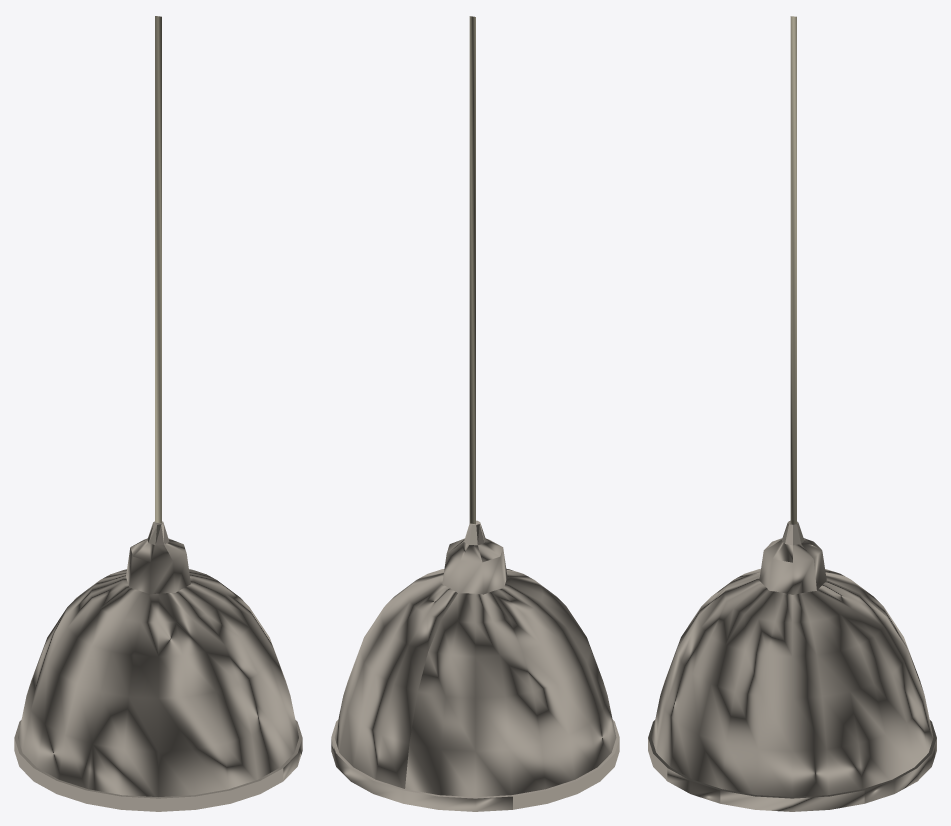
File: light_warm_ceiling_e.glb
The picture shows the model from 3 angles, left to right: view 1: azimuth 30°, elevation 25°; view 2: azimuth 150°, elevation 25°; view 3: azimuth 270°, elevation 25°; orthographic projection.
Size of the model in its own units: 0.4207 by 1.23 by 0.4207.
